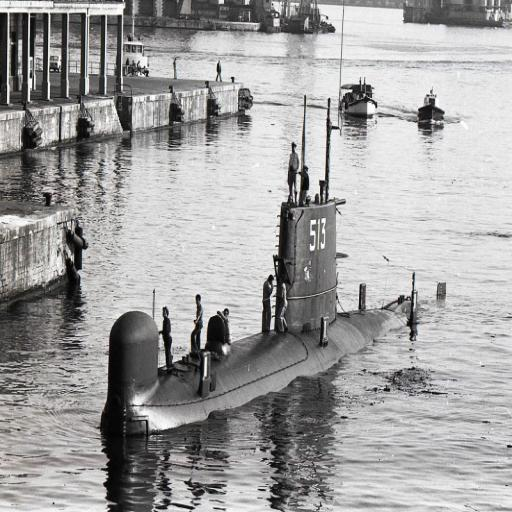submarine: (99, 207, 447, 440)
